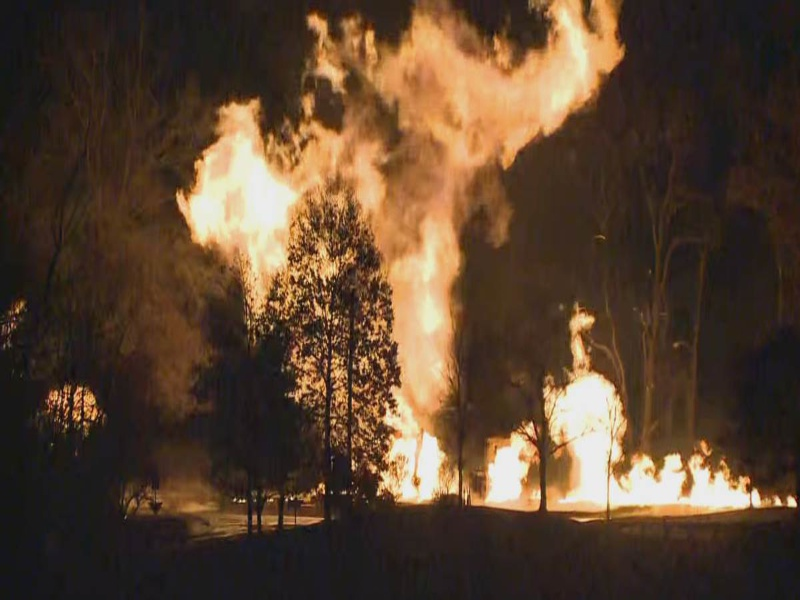fire: (395, 355, 772, 513), (128, 106, 292, 255)
